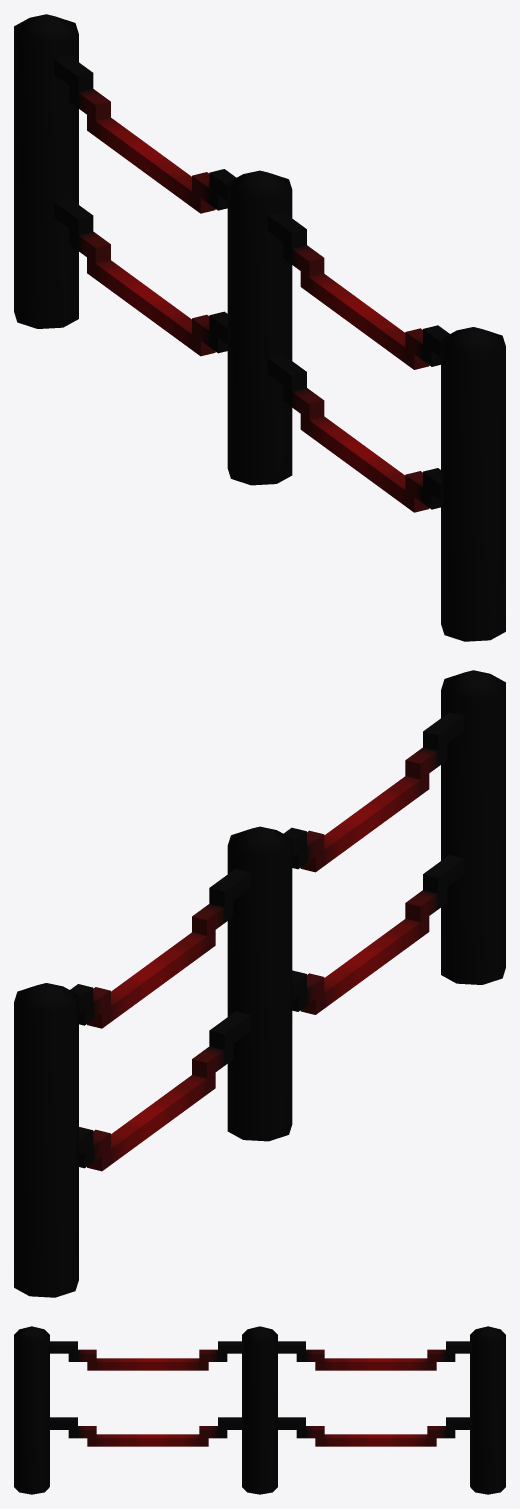
The model's file is Co_BPI_Fence_Rope_A_200.gltf.
3 views of the same model, one above another, from view 1: azimuth 30°, elevation 25°; view 2: azimuth 150°, elevation 25°; view 3: azimuth 270°, elevation 25° (orthographic). The views are drawn at different scales.
Parts seen in each view (by area): view 1: Co_BPI_Fence_Rope_A_200; view 2: Co_BPI_Fence_Rope_A_200; view 3: Co_BPI_Fence_Rope_A_200.
Boxes of the visible parts, <box> form: Co_BPI_Fence_Rope_A_200: <box>14,14,505,641</box>; Co_BPI_Fence_Rope_A_200: <box>14,670,505,1297</box>; Co_BPI_Fence_Rope_A_200: <box>14,1326,505,1494</box>.
Bounding box in the file's own units: 0.24 × 1.19 × 3.29.
